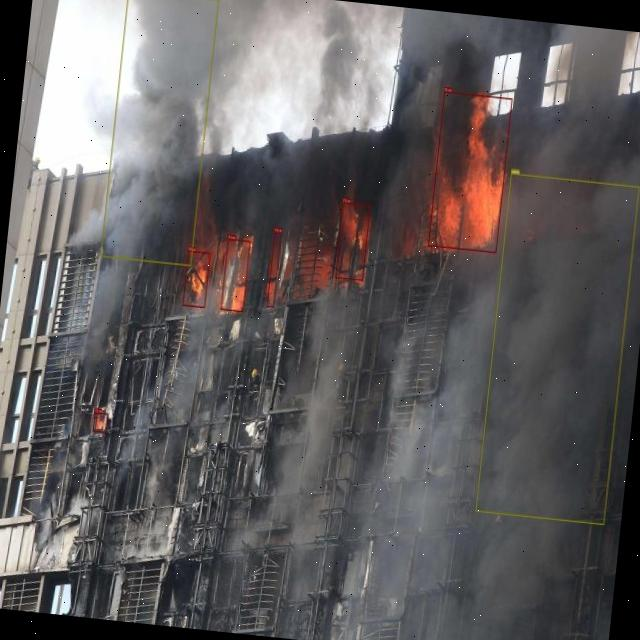fire: (428, 92, 512, 253), (334, 202, 370, 280), (221, 238, 250, 312), (182, 250, 210, 308), (266, 231, 281, 307), (92, 412, 107, 432)
smoke: (475, 172, 639, 525), (100, 0, 219, 266)
